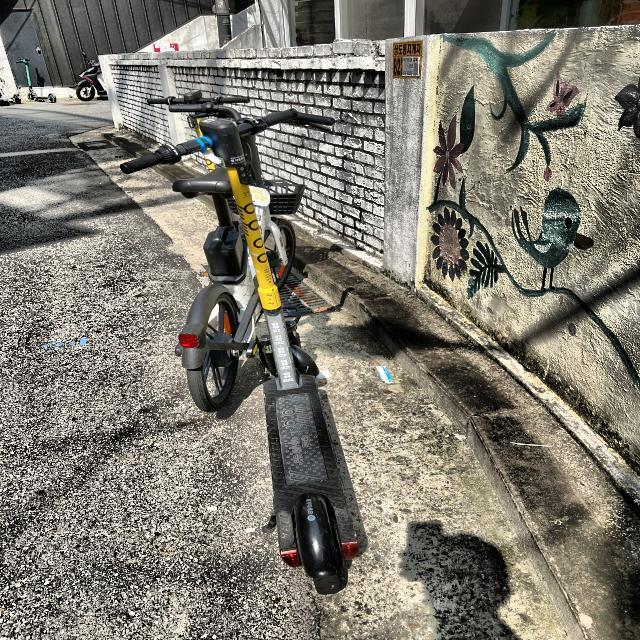bike: (118, 90, 369, 594), (120, 91, 338, 413), (75, 51, 109, 102), (27, 87, 56, 103)
